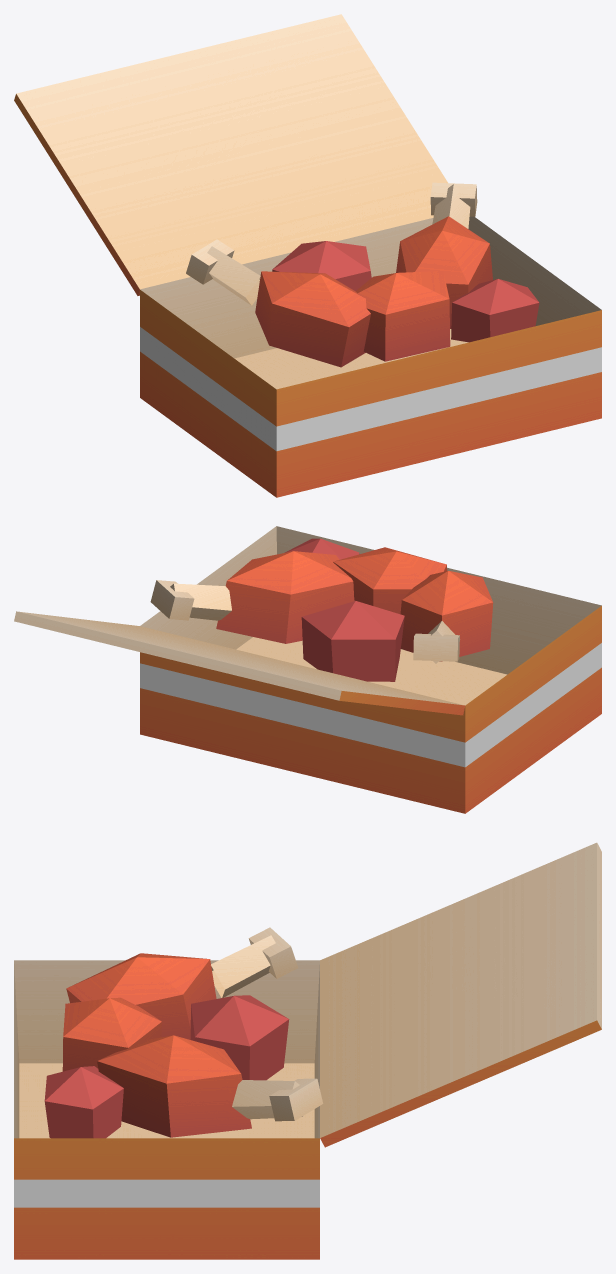
The model's file is food-yangnyeom-chicken.glb.
3 renders of one model, top to bottom at view 1: azimuth 30°, elevation 25°; view 2: azimuth 150°, elevation 25°; view 3: azimuth 270°, elevation 25°, orthographic. The views are drawn at different scales.
Parts seen in each view (by area): view 1: foodYangnyeomChicken; view 2: foodYangnyeomChicken; view 3: foodYangnyeomChicken.
Part boxes in pixels (x1=…): foodYangnyeomChicken: x1=14, y1=14, x2=601, y2=497; foodYangnyeomChicken: x1=14, y1=526, x2=601, y2=813; foodYangnyeomChicken: x1=14, y1=842, x2=601, y2=1259.
Bounding box in the file's own units: 0.2204 × 0.138 × 0.3074.
Materials: 1 (1 with a texture image).
